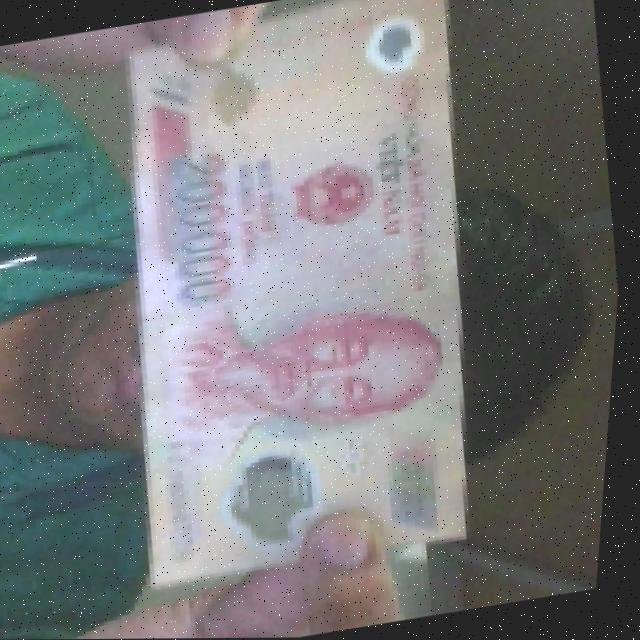200 000 VND: (66, 0, 543, 598)
